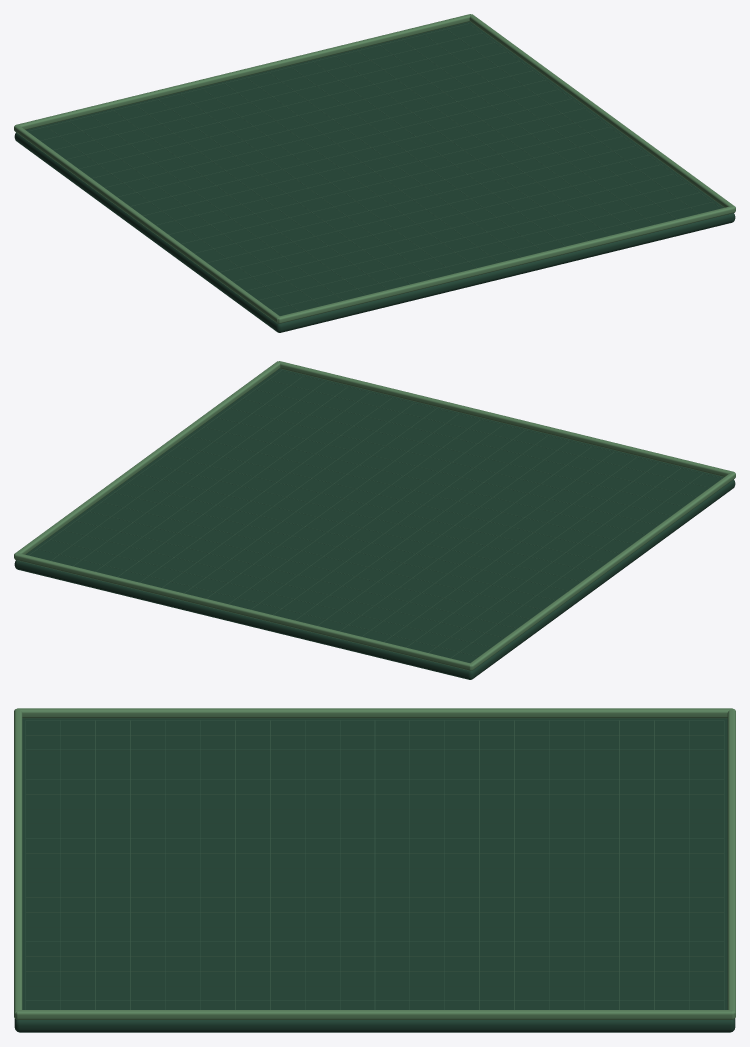
Rendered from board.glb.
3 renders of one model, top to bottom at view 1: azimuth 30°, elevation 25°; view 2: azimuth 150°, elevation 25°; view 3: azimuth 270°, elevation 25°, orthographic. The views are drawn at different scales.
Parts seen in each view (by area): view 1: Board base, Boundary Y.001, Boundary Y, Boundary X.001, Boundary X; view 2: Board base, Boundary Y, Boundary Y.001, Boundary X.001, Boundary X; view 3: Board base, Boundary X.001, Boundary X, Boundary Y.001, Boundary Y, Grid X -8, Grid X -10, Grid X -9, Grid X -5, Grid X -1, Grid X 2, Grid X 3 (+14 smaller).
Boxes of the visible parts, left/top/right/bottom form: Board base: left=14, top=21, right=735, bottom=332; Boundary Y.001: left=278, top=206, right=735, bottom=323; Boundary Y: left=15, top=14, right=470, bottom=129; Boundary X.001: left=14, top=125, right=279, bottom=323; Boundary X: left=469, top=14, right=735, bottom=210; Board base: left=14, top=368, right=735, bottom=679; Boundary Y: left=14, top=553, right=471, bottom=670; Boundary Y.001: left=279, top=361, right=734, bottom=476; Boundary X.001: left=470, top=472, right=735, bottom=670; Boundary X: left=14, top=361, right=280, bottom=557; Board base: left=14, top=718, right=735, bottom=1032; Boundary X.001: left=17, top=708, right=732, bottom=718; Boundary X: left=15, top=1010, right=734, bottom=1019; Boundary Y.001: left=14, top=709, right=22, bottom=1018; Boundary Y: left=727, top=709, right=735, bottom=1018; Grid X -8: left=26, top=749, right=723, bottom=750; Grid X -10: left=26, top=720, right=723, bottom=720; Grid X -9: left=26, top=735, right=723, bottom=735; Grid X -5: left=26, top=794, right=723, bottom=794; Grid X -1: left=26, top=853, right=723, bottom=853; Grid X 2: left=26, top=897, right=723, bottom=897; Grid X 3: left=26, top=912, right=723, bottom=912.
Size of the model in its own units: 20.68 by 0.7 by 20.68.
